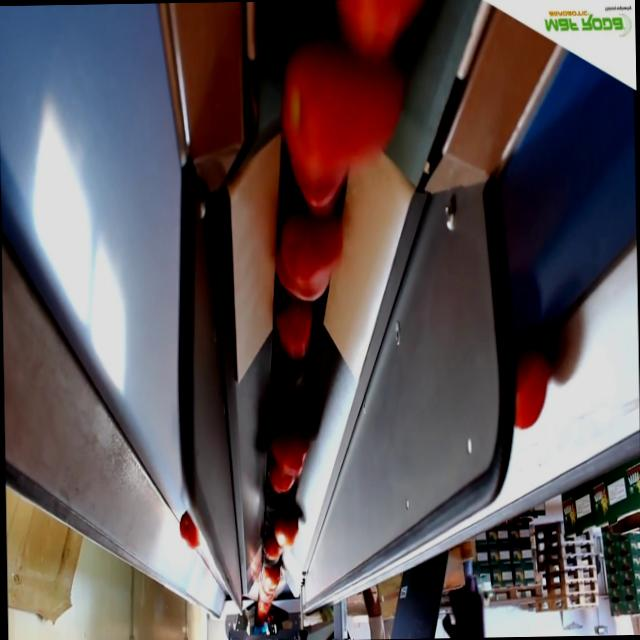Tomato: (284, 41, 411, 175), (337, 0, 420, 58), (282, 211, 342, 288), (511, 344, 548, 430), (274, 297, 313, 361), (270, 419, 306, 476), (290, 166, 344, 202), (274, 508, 298, 552), (268, 464, 298, 492), (180, 514, 200, 550), (261, 532, 281, 558), (262, 564, 282, 590)
